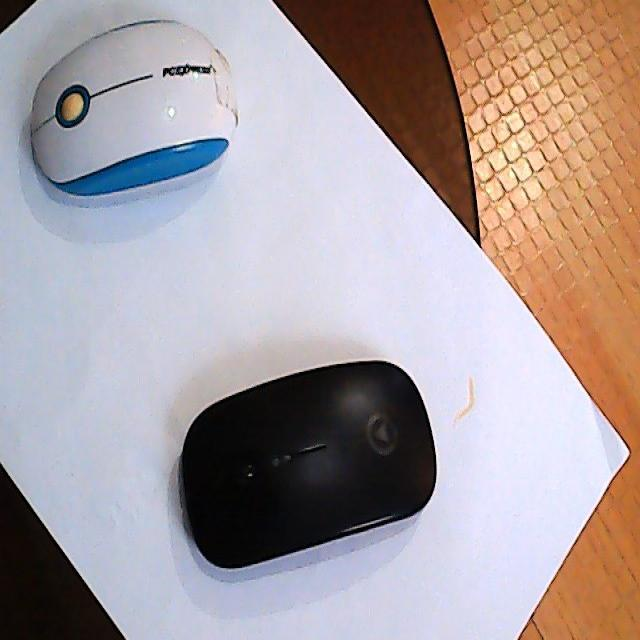mouse: (180, 358, 438, 572), (28, 17, 241, 196)
